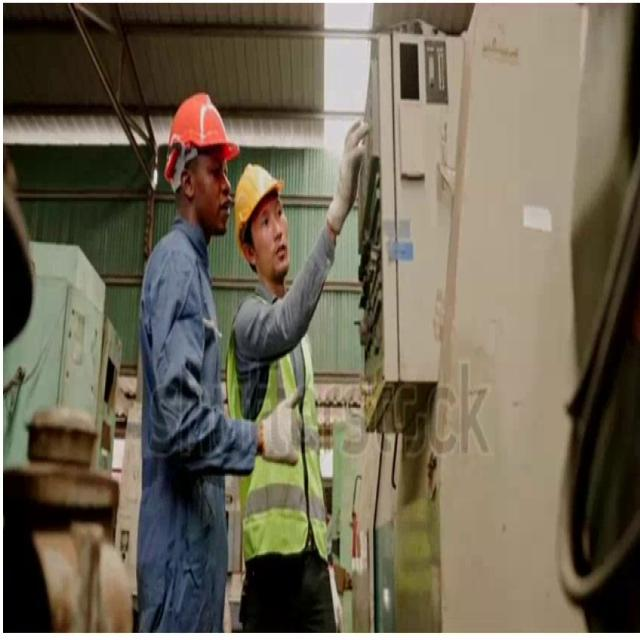gloved: (326, 118, 369, 234), (256, 390, 302, 464)
not-gloved: (330, 566, 343, 632)
